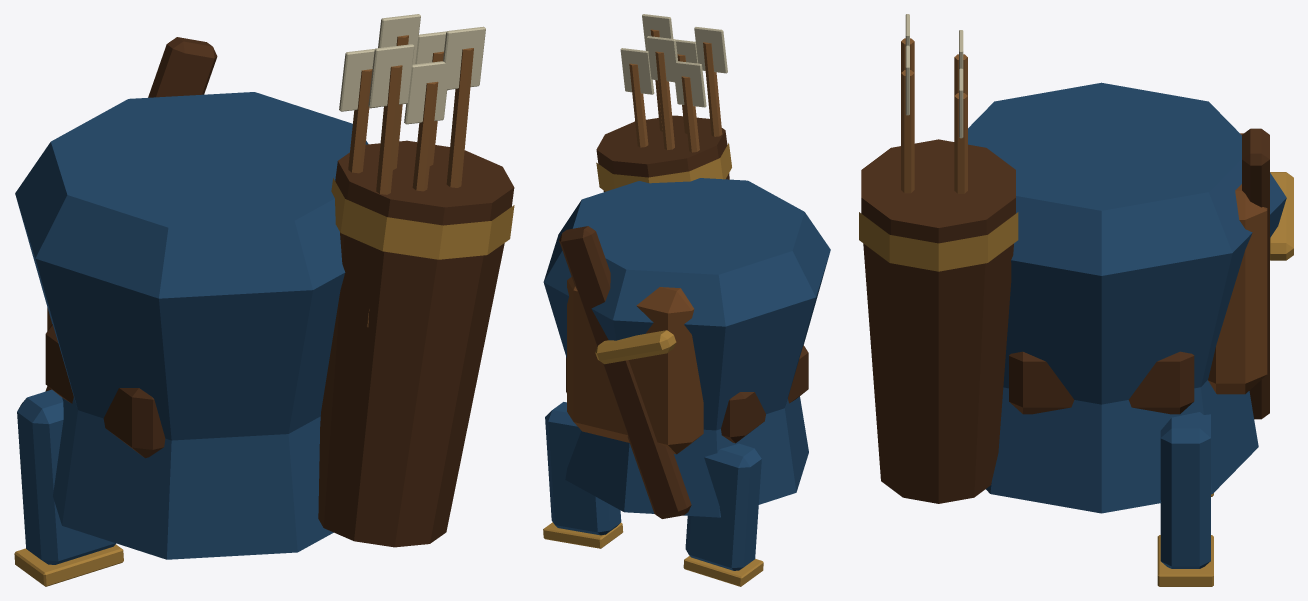
The model's file is Body.glb.
The picture shows the model from 3 angles, left to right: view 1: azimuth 30°, elevation 25°; view 2: azimuth 150°, elevation 25°; view 3: azimuth 270°, elevation 25°; orthographic projection. The views are drawn at different scales.
Parts seen in each view (by area): view 1: Sculpture; view 2: Sculpture; view 3: Sculpture.
Boxes of the visible parts, x1,y1,x2,y2 form: Sculpture: (14,14,514,586); Sculpture: (543,14,830,586); Sculpture: (859,14,1293,586).
Bounding box in the file's own units: 0.7082 × 1.06 × 0.7742.
